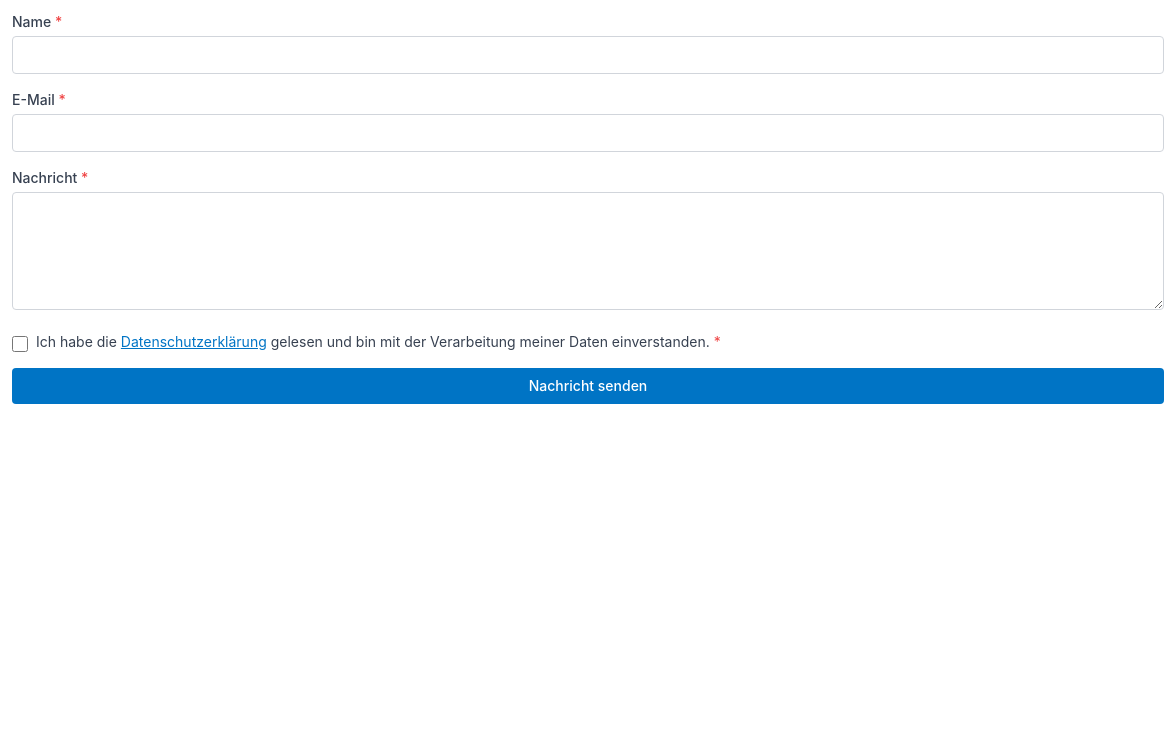
Test case: REQ-006: Verlinkung im Kontaktformular › zeigt Validierungsfehler für leere Pflichtfelder
Click the button "Nachricht senden".
click(588, 386)  # box [12,368,1164,404]
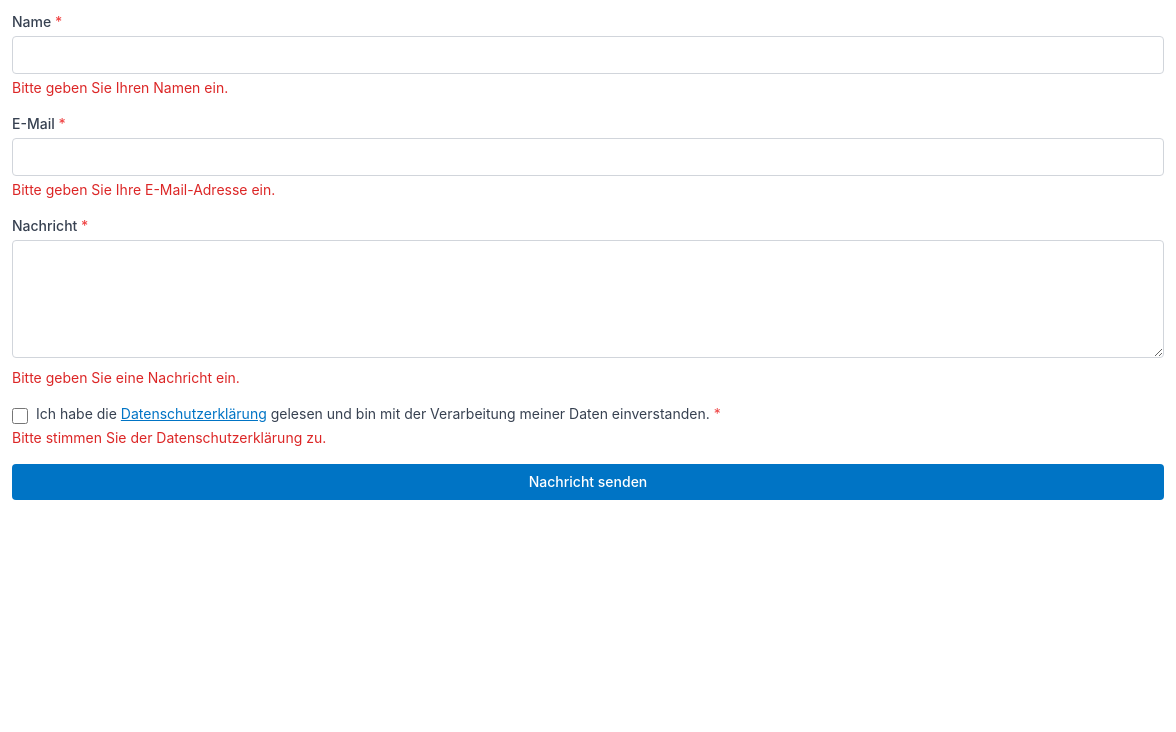
Expected: the text "Bitte geben Sie Ihren Namen ein." is shown, [12,79,228,96]
Expected: the text "Bitte geben Sie Ihre E-Mail-Adresse ein." is shown, [12,181,275,198]
Expected: the text "Bitte geben Sie eine Nachricht ein." is shown, [12,369,240,386]
